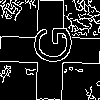G: (25, 25, 72, 65)
